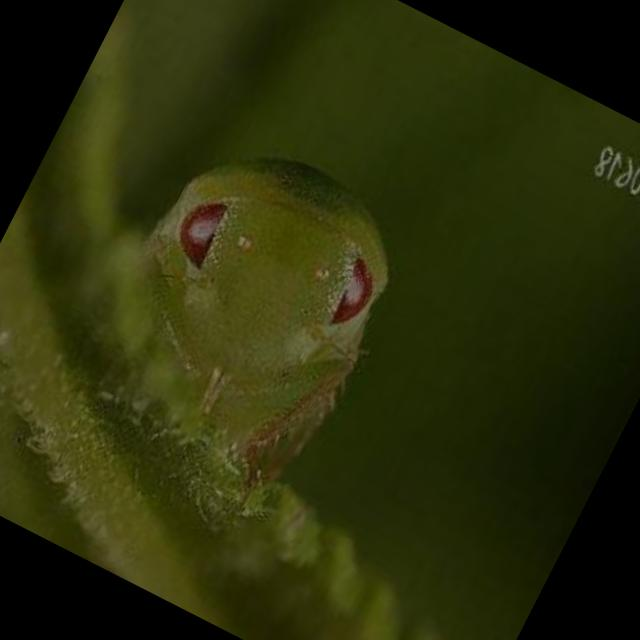green-leafhopper: (85, 120, 429, 478)
